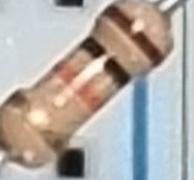Black: (78, 34, 131, 87)
Brown: (101, 3, 167, 68)
Orange: (51, 57, 106, 114)
Side-Gold: (5, 89, 67, 150)
